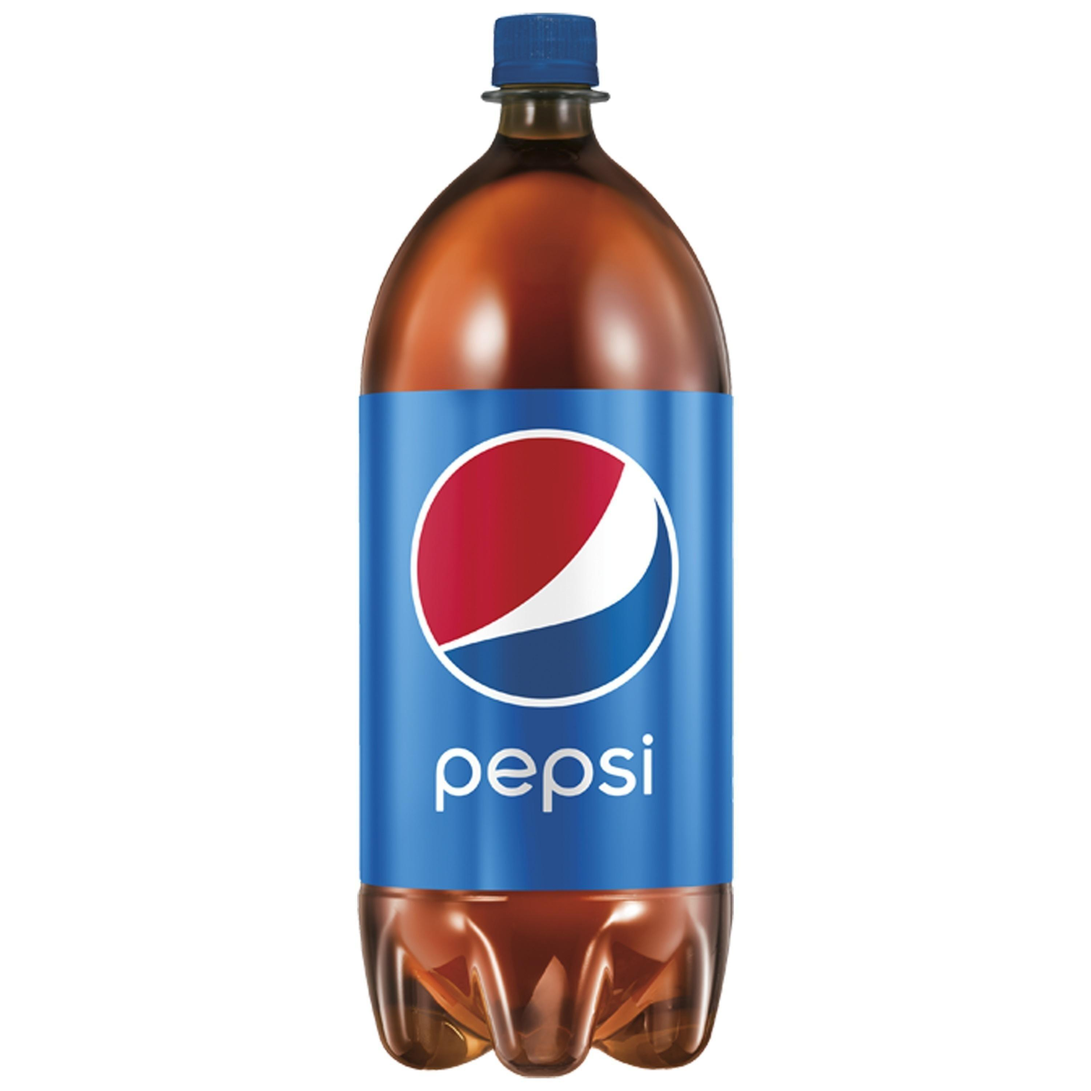bottle-plastic: (347, 1, 744, 1090)
